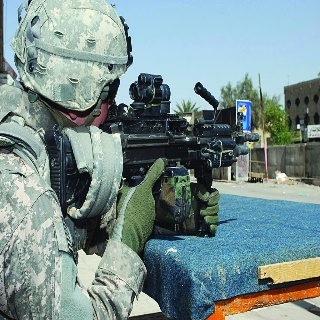rifle: (45, 70, 263, 224)
